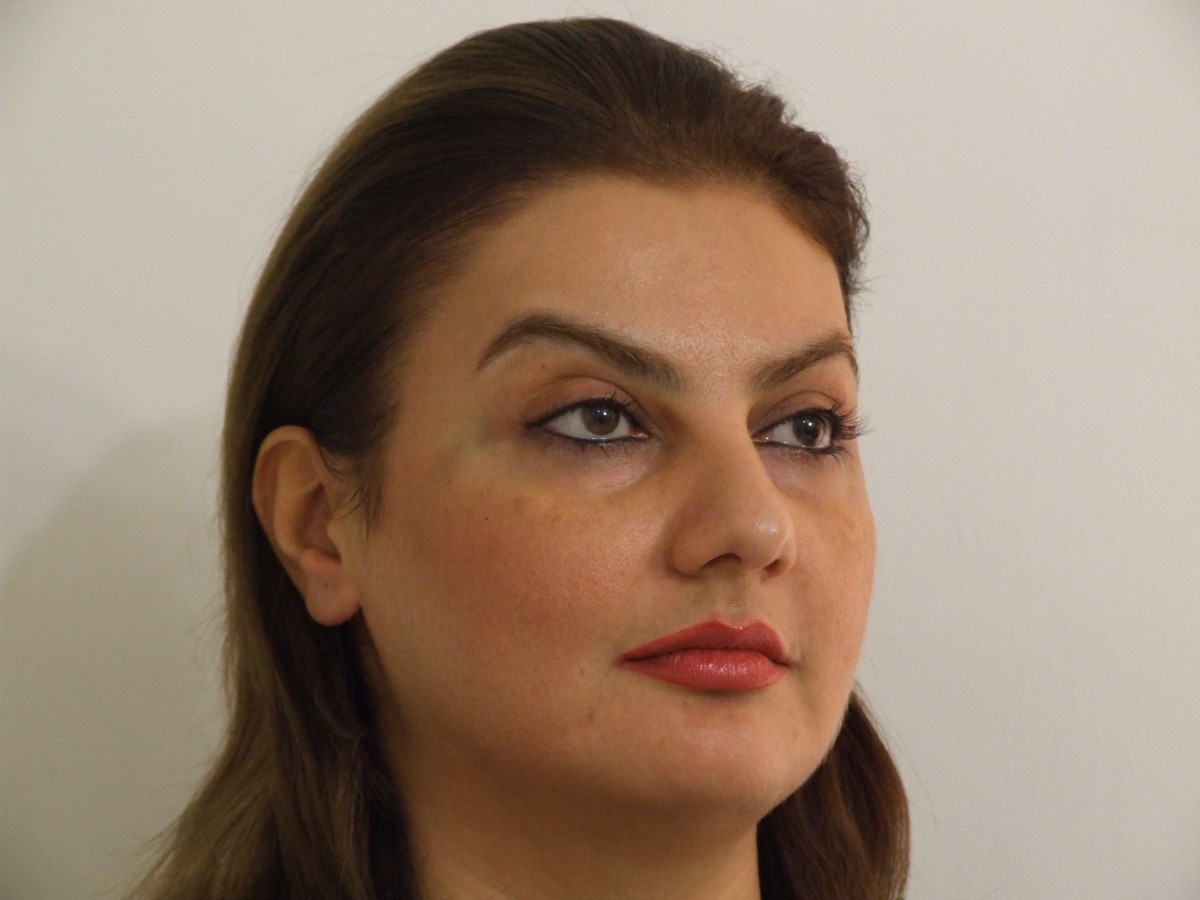neo: (565, 661, 597, 691)
occhiaia: (489, 443, 685, 516)
